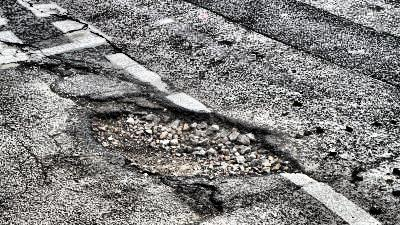pothole: (79, 91, 302, 193)
